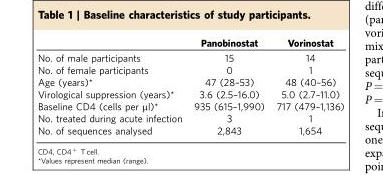table: (36, 37, 343, 135)
table column: (36, 37, 187, 135), (187, 37, 269, 135), (269, 37, 343, 135)
table column header: (36, 37, 343, 50)
table row: (36, 37, 343, 50), (36, 50, 343, 63), (36, 87, 343, 100), (36, 63, 343, 75), (36, 75, 343, 87), (36, 100, 343, 112), (36, 112, 343, 124), (36, 124, 343, 135)
